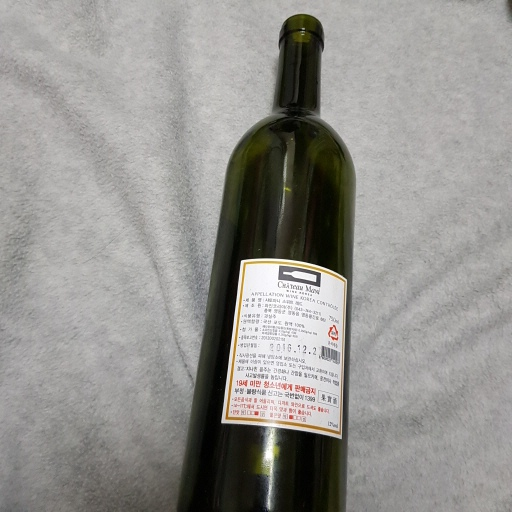Glass_2: (163, 9, 362, 512)
